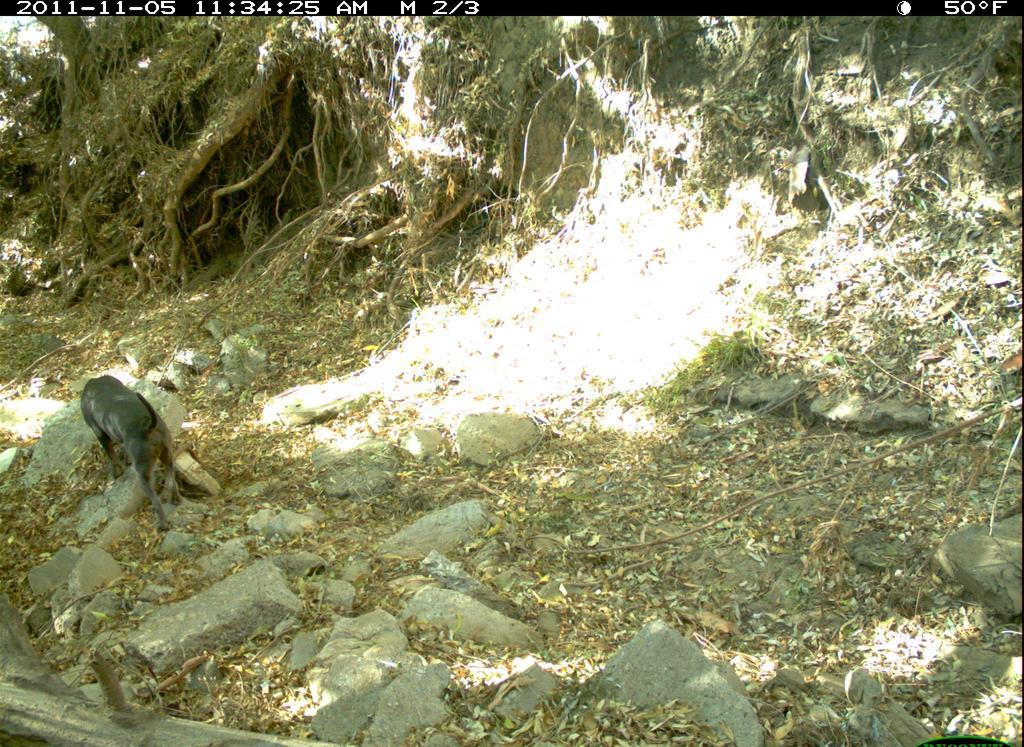dog: (72, 372, 187, 537)
